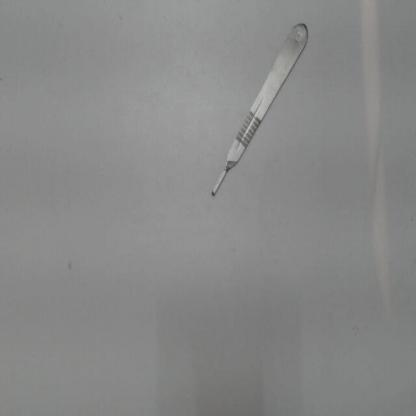No.3 BP Handle: (202, 15, 324, 206)
